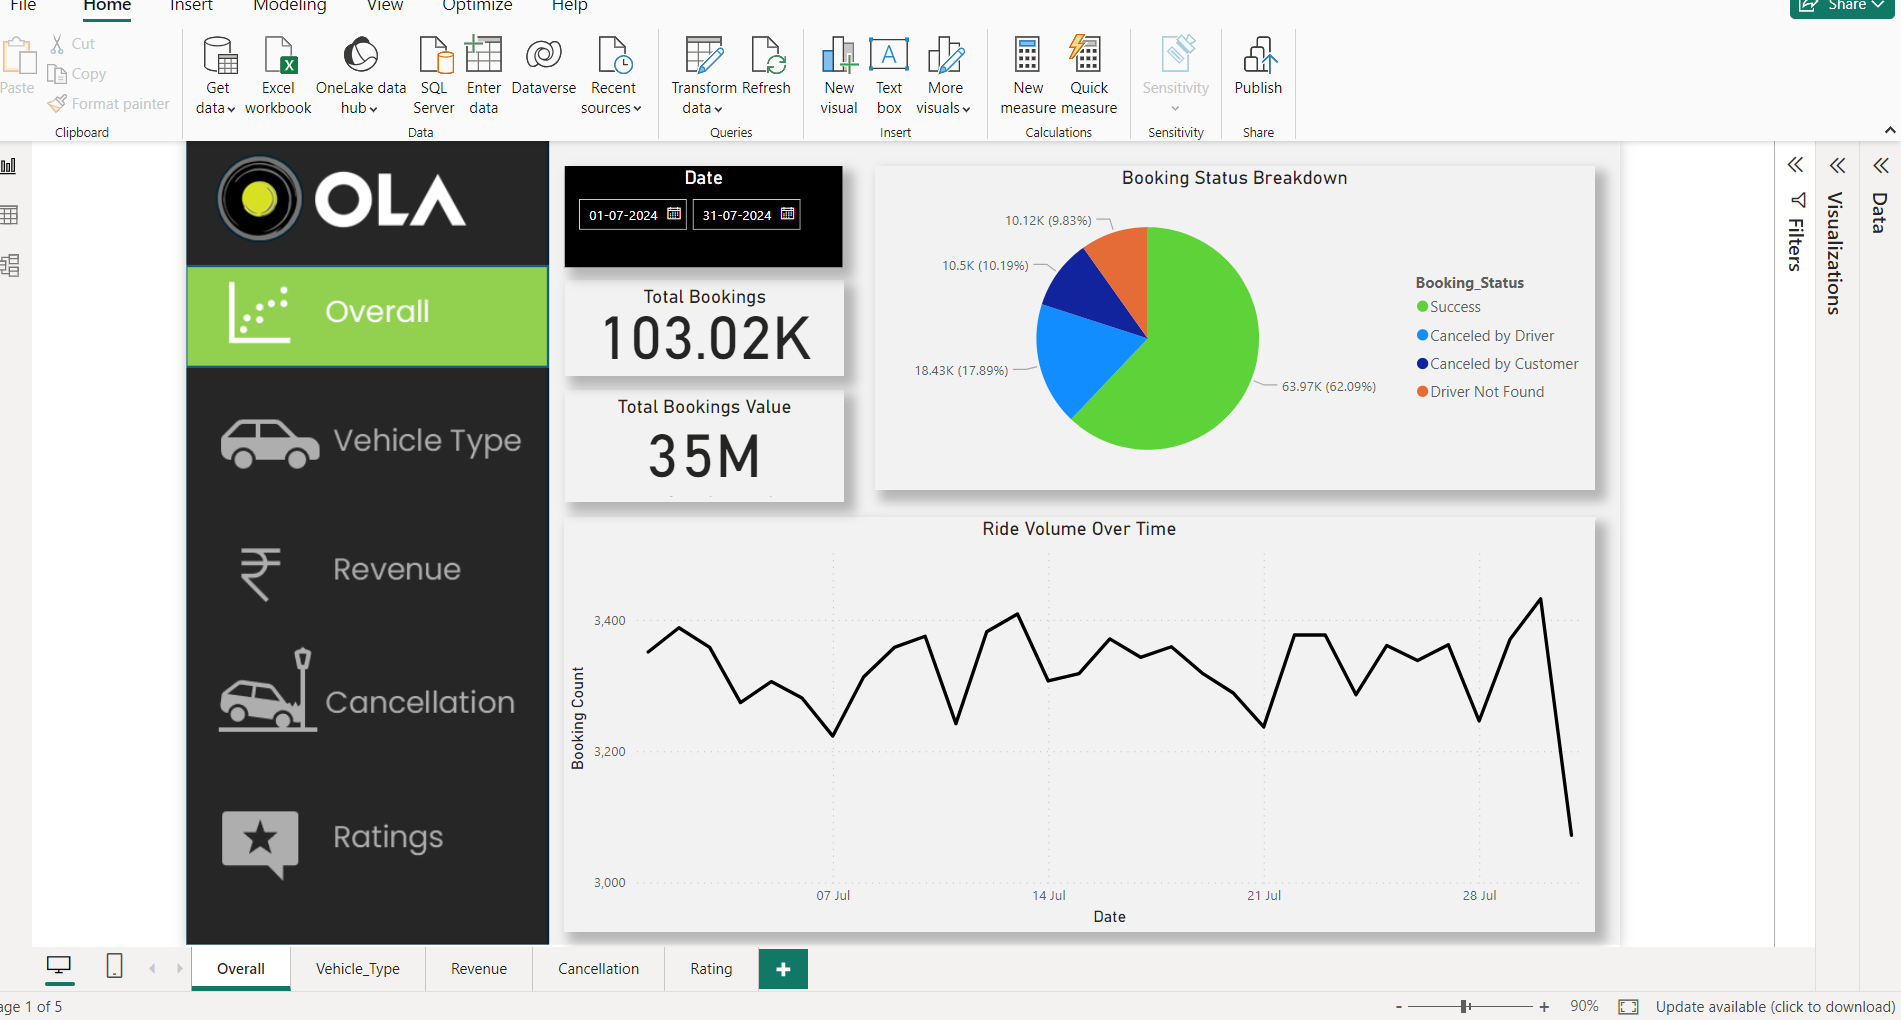

What the dashboard file says about the page in this screenshot:
{"tool":"powerbi","page":{"name":"Overall","canvas":[1280,720],"ordinal":0},"visuals":[{"type":"actionButton","box":[0,222.1,320.8,100.1],"z":0},{"type":"actionButton","box":[0,335.9,320.8,91.9],"z":1},{"type":"actionButton","box":[0,445.6,320.8,106.9],"z":2},{"type":"actionButton","box":[0,574.5,320.8,89.1],"z":3},{"type":"actionButton","box":[0,112.4,320.8,89.1],"z":4},{"type":"lineChart","title":"Ride Volume Over Time","fields":{"Category":["July.Date"],"Y":["CountNonNull(July.Booking_ID)"]},"box":[337.3,335.9,921.3,370.2],"z":5},{"type":"pieChart","title":"Booking Status Breakdown","fields":{"Category":["July.Booking_Status"],"Y":["CountNonNull(July.Booking_Status)"]},"box":[615.6,21.9,643,289.3],"z":6},{"type":"slicer","title":"Date","fields":{"Values":["July.Date"]},"box":[338.6,21.9,248.2,90.5],"z":7},{"type":"card","title":"Total Bookings","fields":{"Values":["Count(July.Booking_ID)"]},"box":[338.1,124.3,249.8,86],"z":8},{"type":"card","title":"Total Bookings Value","fields":{"Values":["Sum(July.Booking_Value)"]},"box":[338.6,222.1,249.5,100.1],"z":9}]}

Visuals, with their boxes on the page's 1280x720 design canvas (x1, y1, x2, y2). These are canvas units, not pixel positions in the 1901x1020 screenshot, which may show the page scaled, cropped or inside an application window:
actionButton: Rect(0, 222, 321, 322)
actionButton: Rect(0, 336, 321, 428)
actionButton: Rect(0, 446, 321, 552)
actionButton: Rect(0, 574, 321, 664)
actionButton: Rect(0, 112, 321, 202)
"Ride Volume Over Time" lineChart: Rect(337, 336, 1259, 706)
"Booking Status Breakdown" pieChart: Rect(616, 22, 1259, 311)
"Date" slicer: Rect(339, 22, 587, 112)
"Total Bookings" card: Rect(338, 124, 588, 210)
"Total Bookings Value" card: Rect(339, 222, 588, 322)
